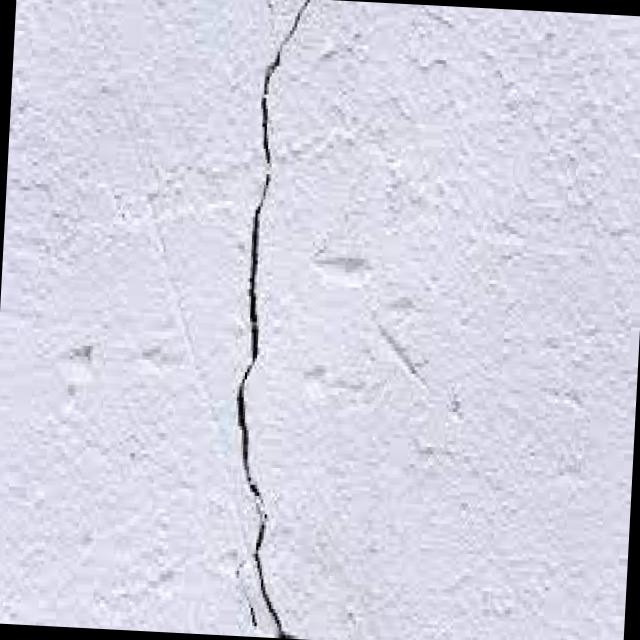crack: (215, 0, 324, 635)
